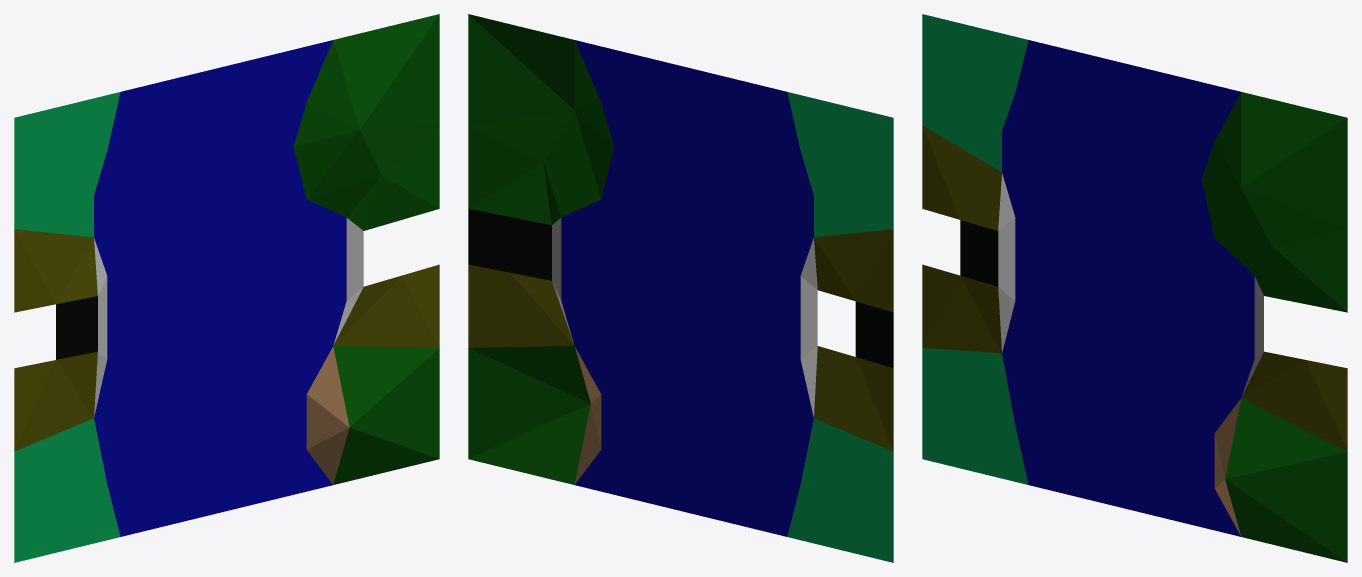
Rendered from tiles3_27.obj.
3 views of the same model, side by side, from view 1: azimuth 30°, elevation 25°; view 2: azimuth 150°, elevation 25°; view 3: azimuth 330°, elevation 25° (orthographic).
Parts seen in each view (by area): view 1: tiles3_27; view 2: tiles3_27; view 3: tiles3_27.
Boxes of the visible parts, <box> form: tiles3_27: <box>14,14,439,562</box>; tiles3_27: <box>468,14,893,562</box>; tiles3_27: <box>922,14,1347,562</box>.
Bounding box in the file's own units: 4.1 × 4.1 × 0.272.
